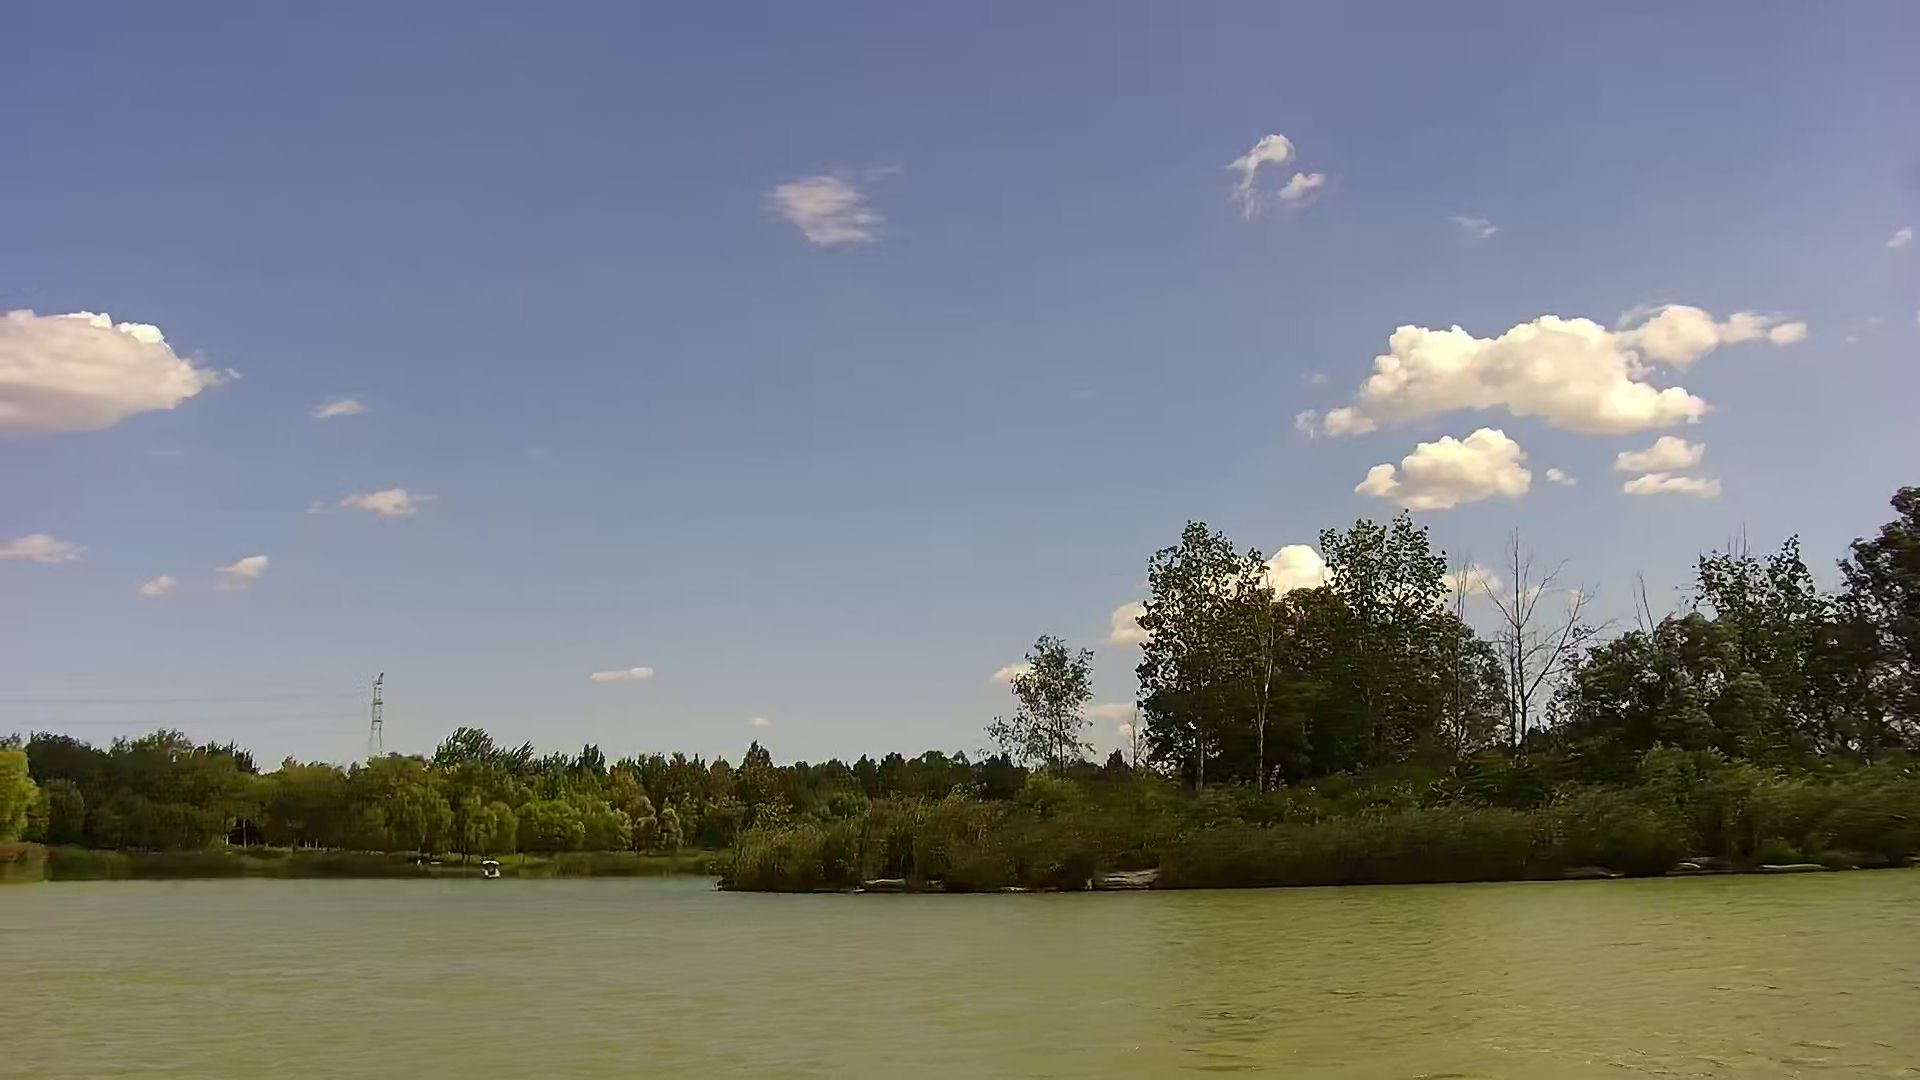rock: (1085, 864, 1159, 887), (861, 874, 915, 891)
